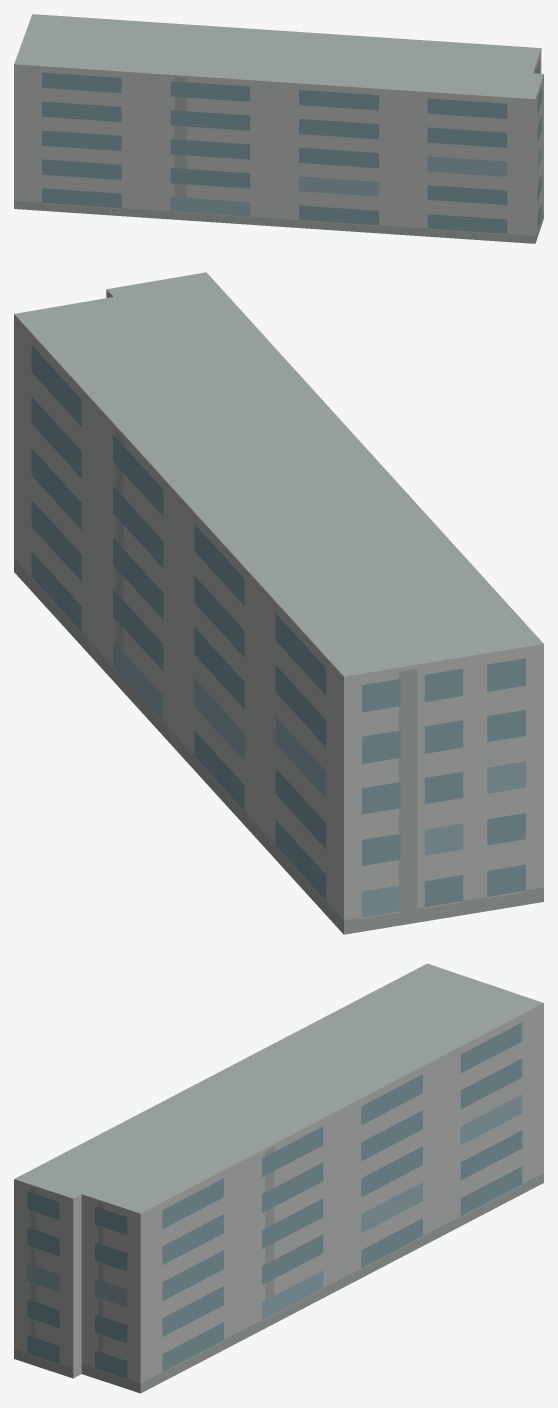
The model's file is residential-06c464f6-6c5d-4780-b40f-e1ed95ea1299.glb.
3 views of the same model, one above another, from view 1: azimuth 30°, elevation 25°; view 2: azimuth 150°, elevation 25°; view 3: azimuth 270°, elevation 25° (orthographic). The views are drawn at different scales.
Visible parts, largest first — view 1: residential-06c464f6-6c5d-4780-b40f-e1ed95ea1299.tmp; view 2: residential-06c464f6-6c5d-4780-b40f-e1ed95ea1299.tmp; view 3: residential-06c464f6-6c5d-4780-b40f-e1ed95ea1299.tmp.
Part boxes in pixels (bbox=[...]): residential-06c464f6-6c5d-4780-b40f-e1ed95ea1299.tmp: bbox=[14, 14, 543, 243]; residential-06c464f6-6c5d-4780-b40f-e1ed95ea1299.tmp: bbox=[14, 272, 543, 934]; residential-06c464f6-6c5d-4780-b40f-e1ed95ea1299.tmp: bbox=[14, 963, 543, 1393].
Bounding box in the file's own units: 45.5 × 15.25 × 40.73.
